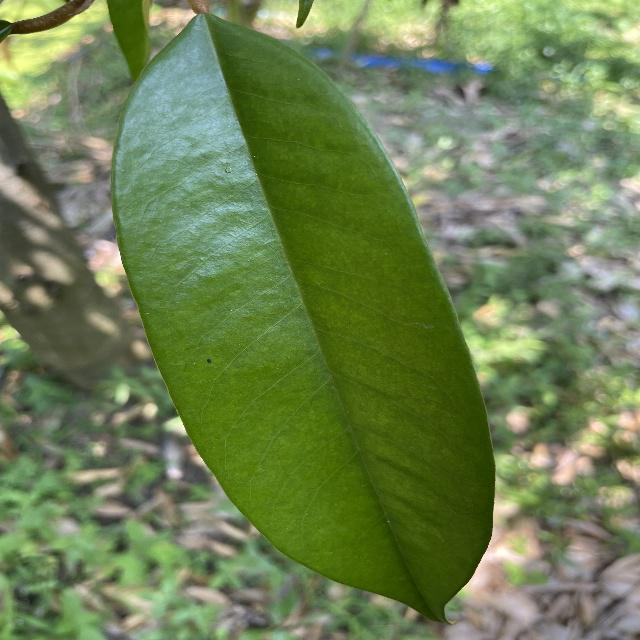No Disease: (99, 5, 506, 639)
